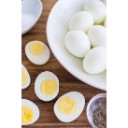begg: (34, 71, 60, 100), (66, 31, 91, 56), (25, 41, 50, 64)
